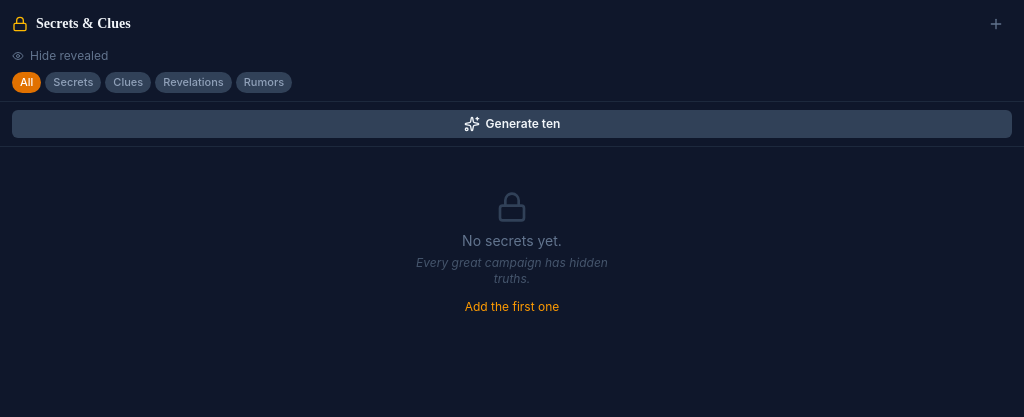
Scenario: SecretsTracker — the Generate ten button › asks the facade once, with the generation-variant campaign context
This screenshot has width=1024, height=417.
Click the button "Generate ten".
click(512, 124)  # box [12,110,1012,138]
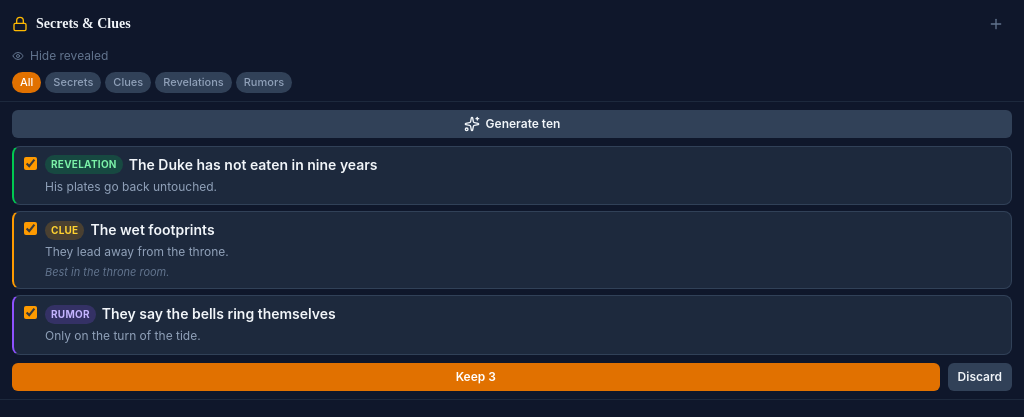
Expected: the checkbox named "The Duke has not eaten in nine years" is shown, [24,156,37,170]
